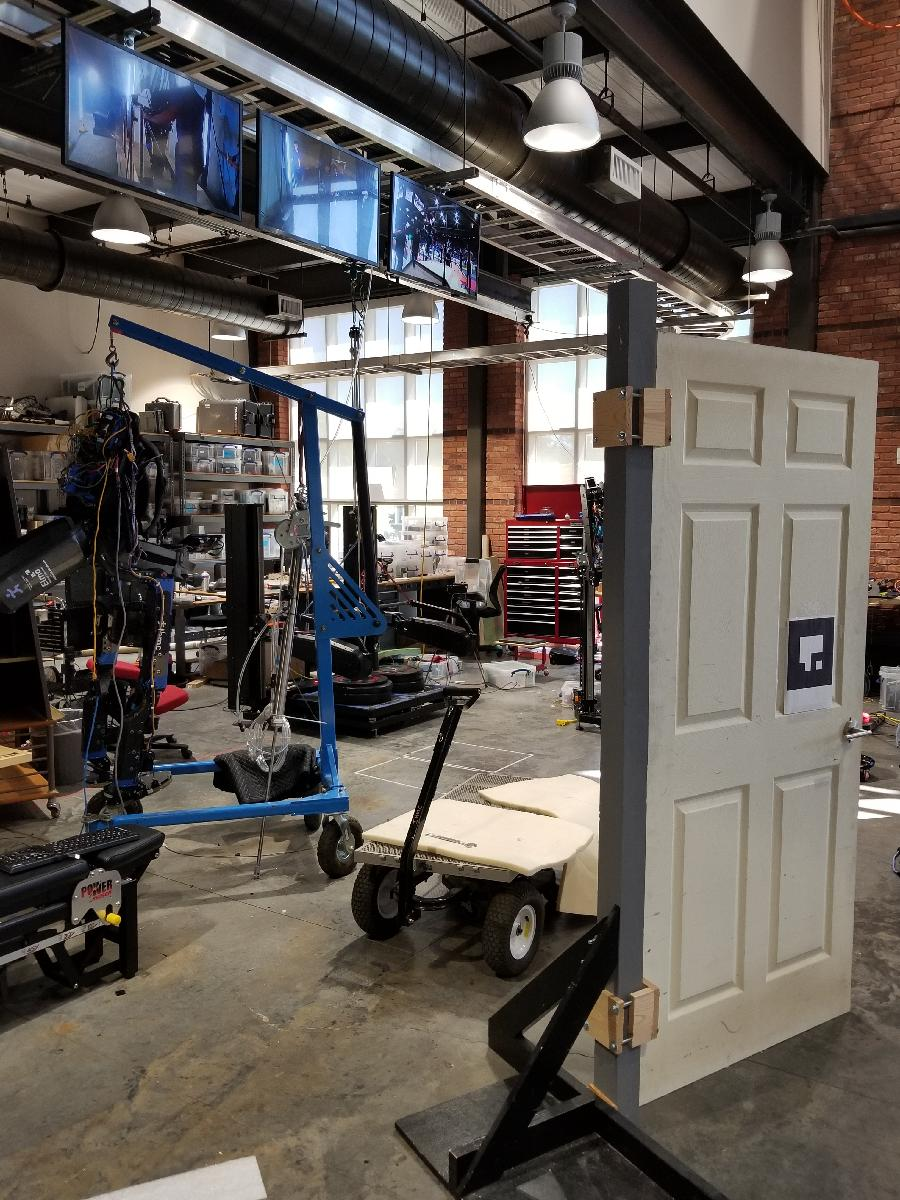door: (634, 329, 882, 1113)
doorHandle: (841, 718, 873, 749)
